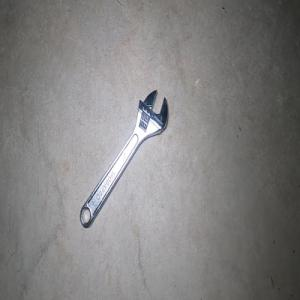Wrench: (79, 89, 167, 227)
